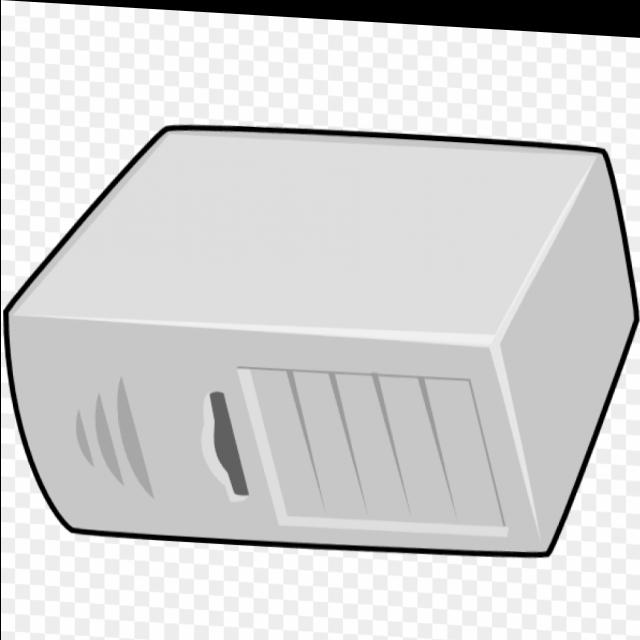Server: (0, 90, 640, 589)
